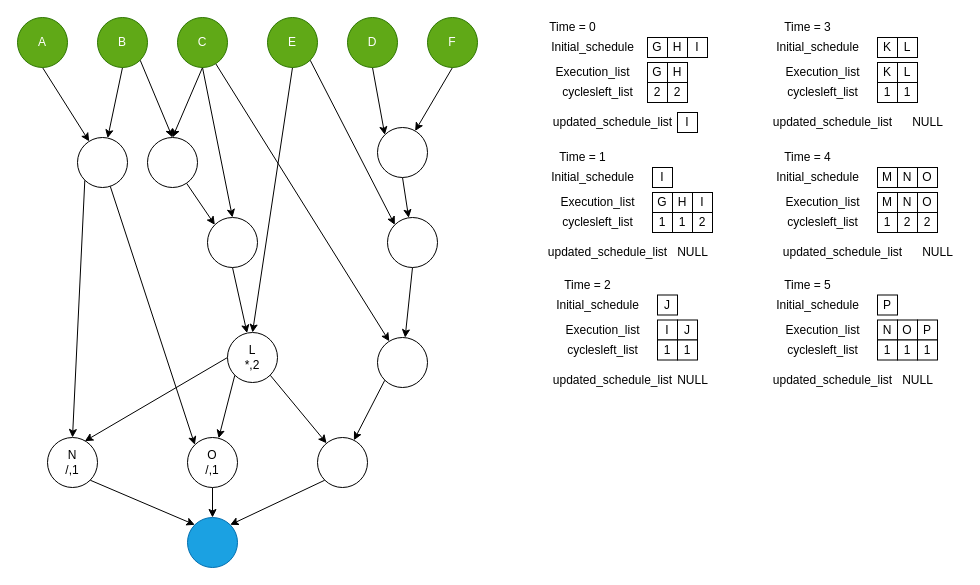
This 980x585 diagram has some shape labels left out. The centre of each missing label's shape, as x and y in pixels:
End: (x=212, y=542)
G /,6: (x=102, y=162)
H /,5: (x=172, y=162)
I /,5: (x=402, y=152)
J *,3: (x=232, y=242)
K *,3: (x=412, y=242)
M *,2: (x=402, y=362)
P *,1: (x=342, y=462)
